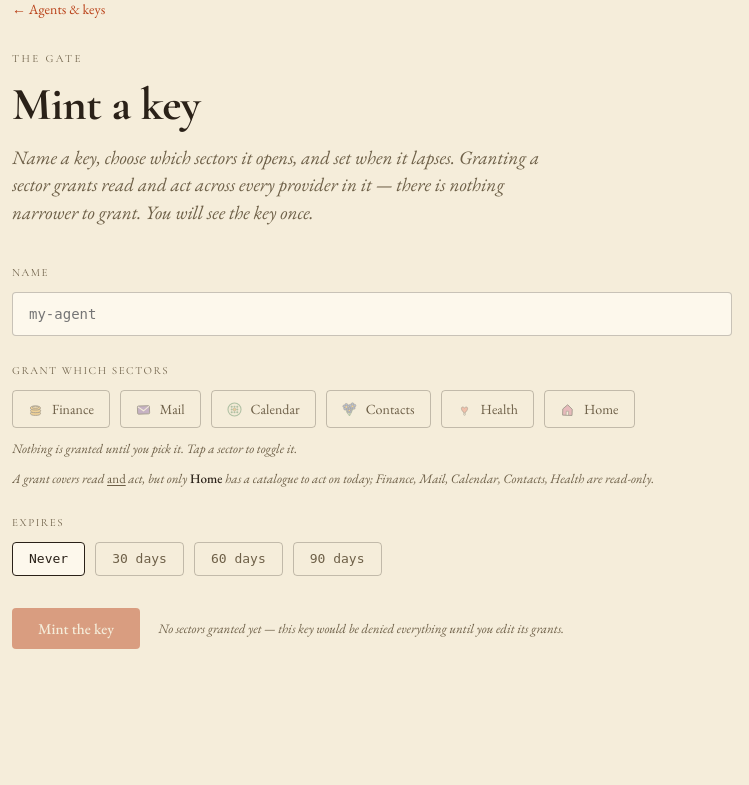
MintKeyPage reveal-once — the complete connect config (#139) › is the register's block with the key filled in — not a second, drifting shape
The image size is (749, 785).
In the field labelled "Name": (372, 314) [12,292,732,336], type "postern-qm"
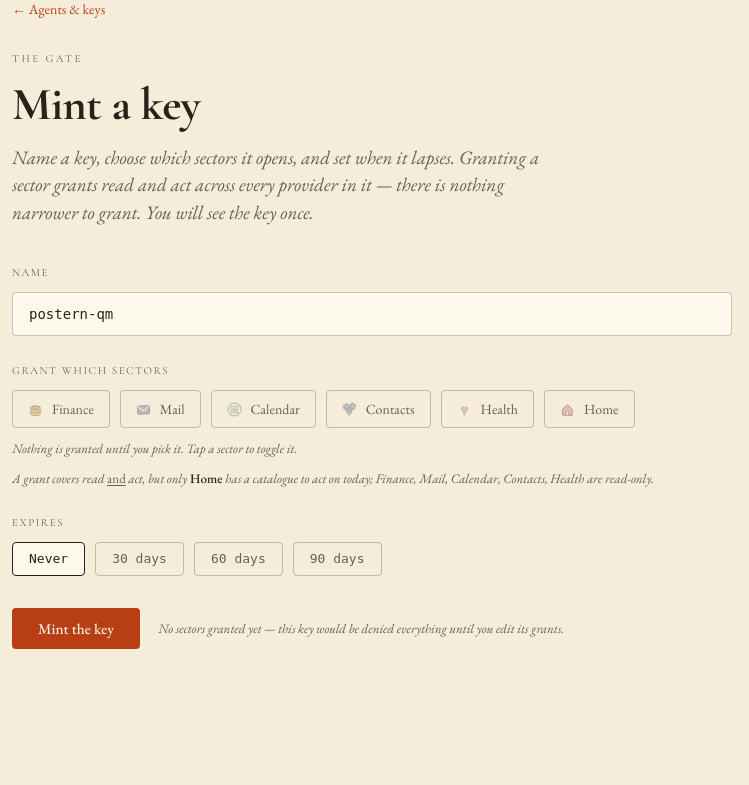
Click the button "Mint the key": (76, 629) [12,608,140,649]
(page scrolled)
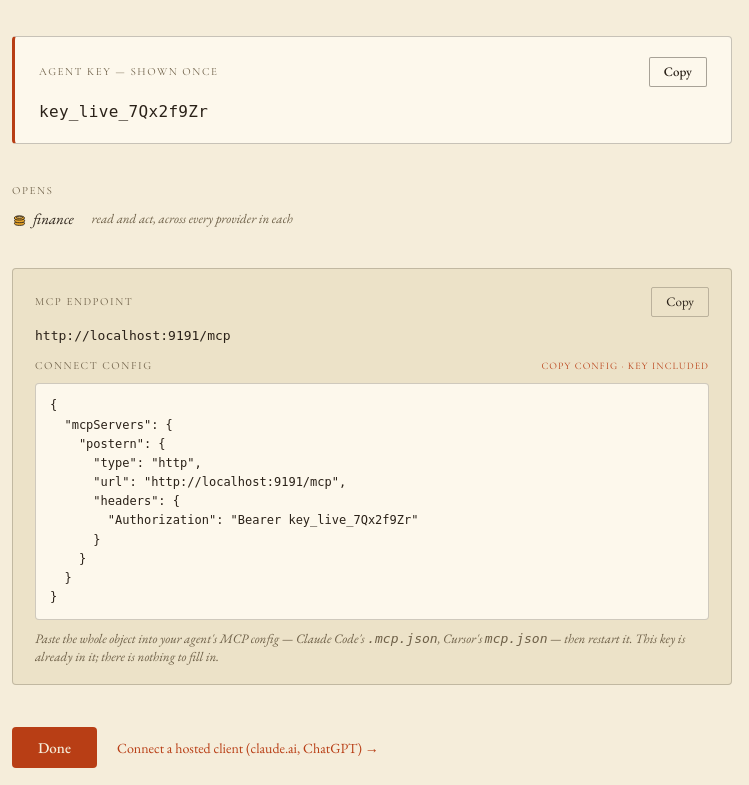
Expected: the text "key_live_7Qx2f9Zr" is shown, [39,102,208,121]
